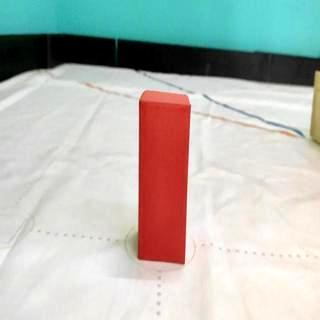redbox: (137, 90, 190, 266)
